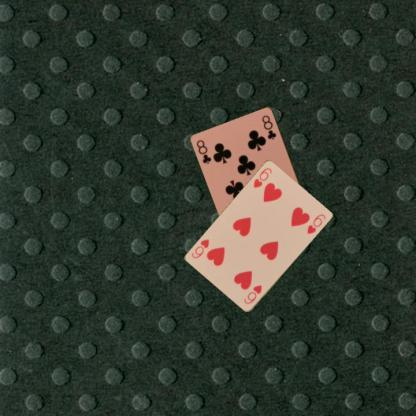6h: (251, 165, 273, 190), (242, 283, 264, 306)
8c: (194, 138, 213, 165)
